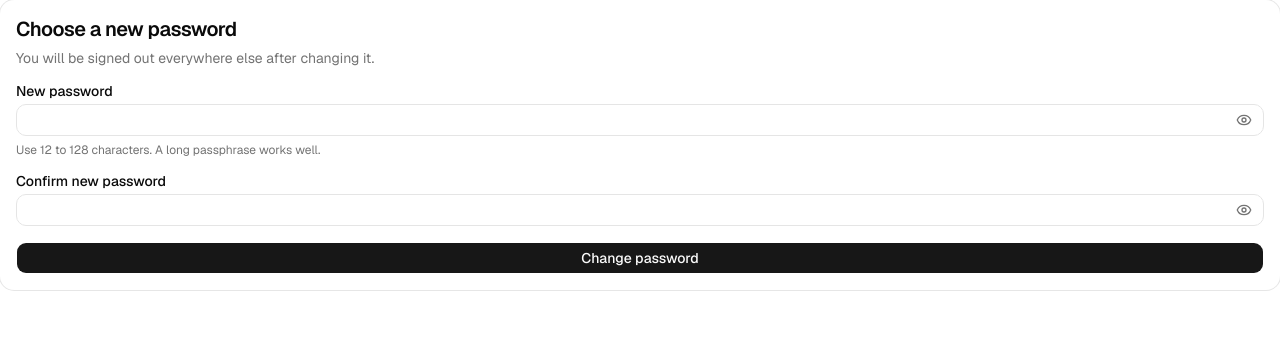
Scenario: ResetPasswordForm › shows the rate-limit message on 429
This screenshot has width=1280, height=364.
Type "a-long-passphrase-123" into the password field labelled "New password". click: (640, 120)
box: [16,104,1264,136]
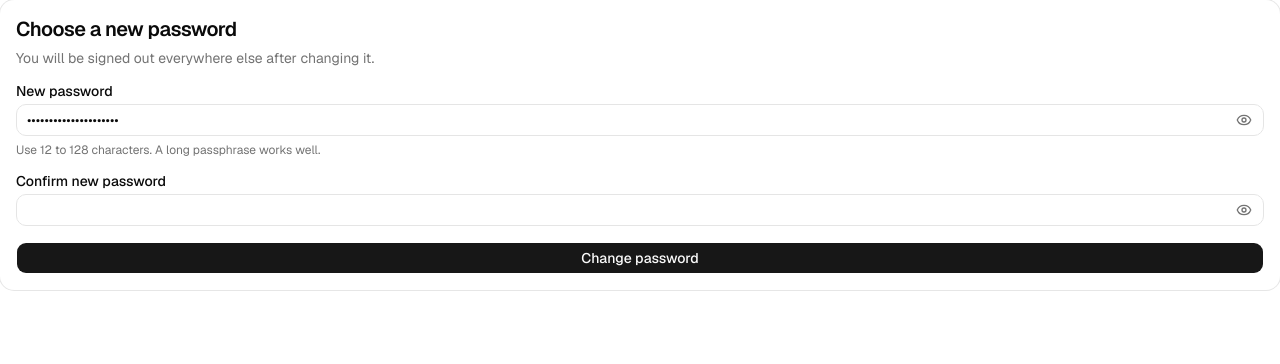
Type "a-long-passphrase-123" into the password field labelled "Confirm new password". click: (640, 210)
box: [16,194,1264,226]
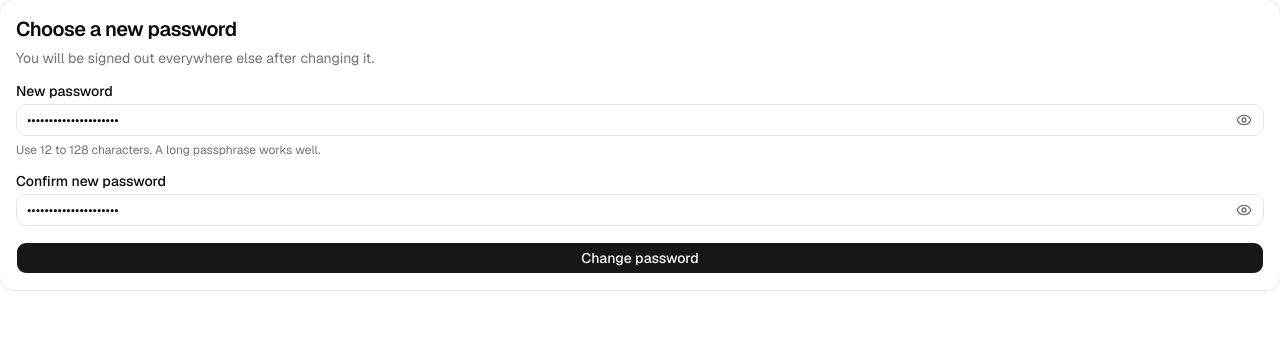
Click the button "Change password". click: (640, 258)
box: [16,242,1264,274]
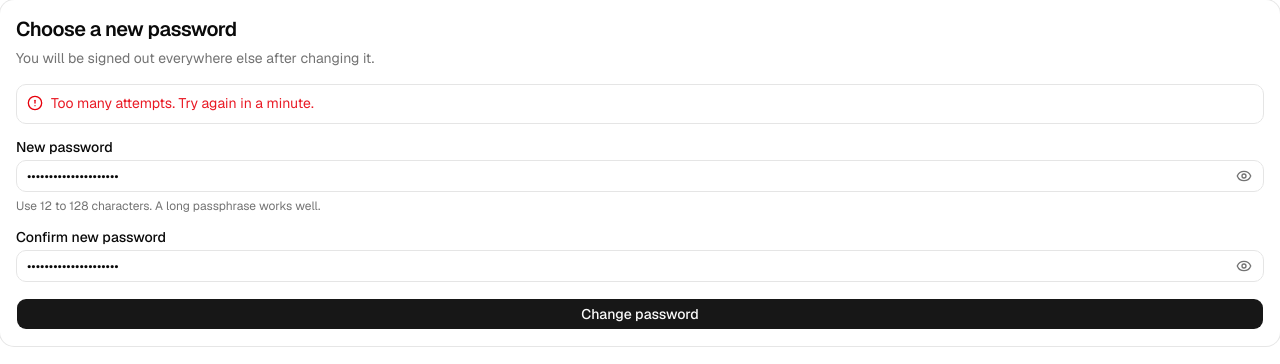
Expected: the message shows "Too many attempts", [51,94,314,112]
